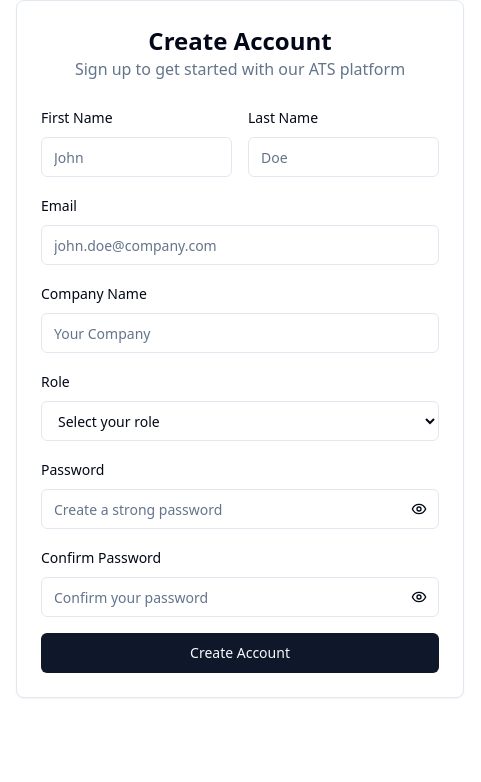
Test: Production Authentication Flow › RegisterForm › validates password strength for real accounts
This screenshot has width=481, height=782.
Type "weak" into the password field labelled "Password" at (240,509), box [41,489,439,529]
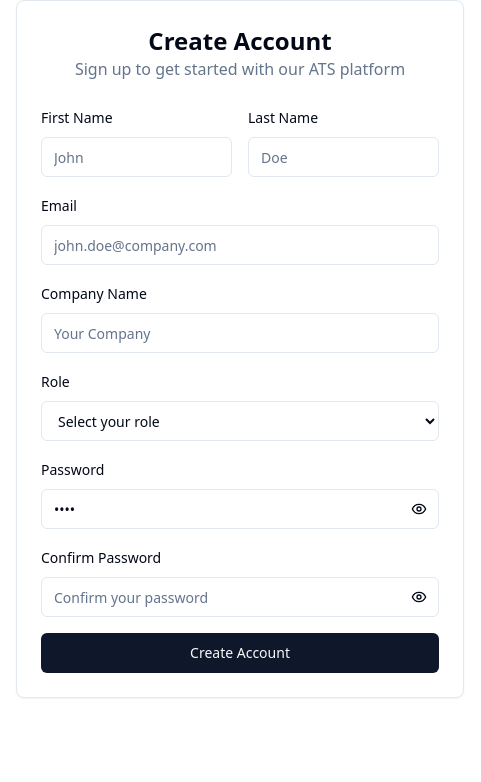
Type "weak" into the password field labelled "Confirm Password" at (240,597), box [41,577,439,617]
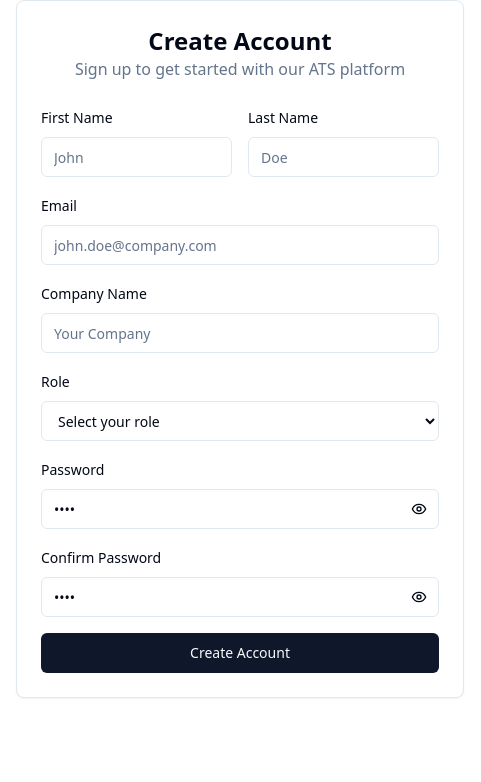
Click the button "Create Account" at (240,653), box [41,633,439,673]
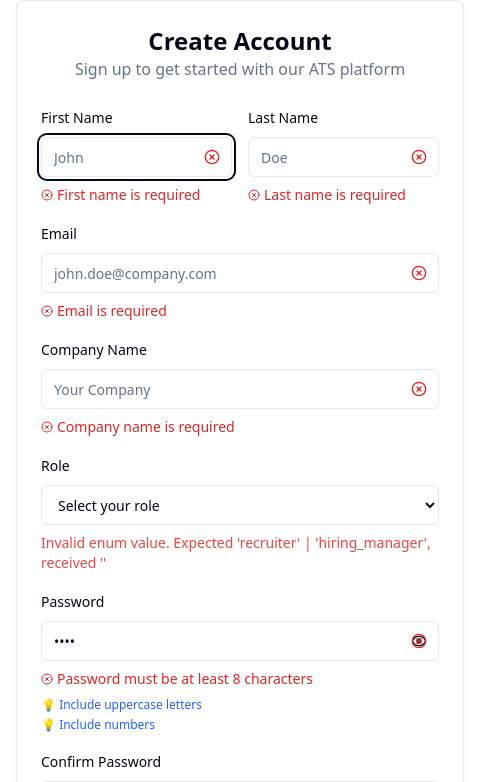
Expected: the text "Password must be at least 8 characters" is shown, [41,669,313,688]
